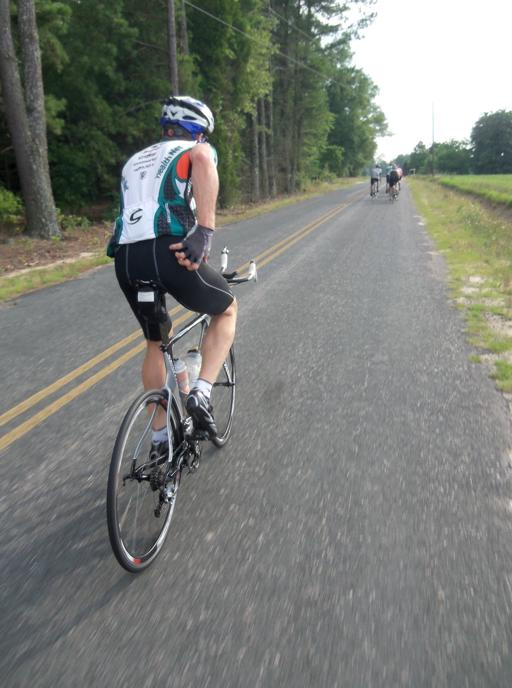non-vehicle: (106, 245, 257, 573), (386, 181, 401, 199), (370, 181, 379, 197)
